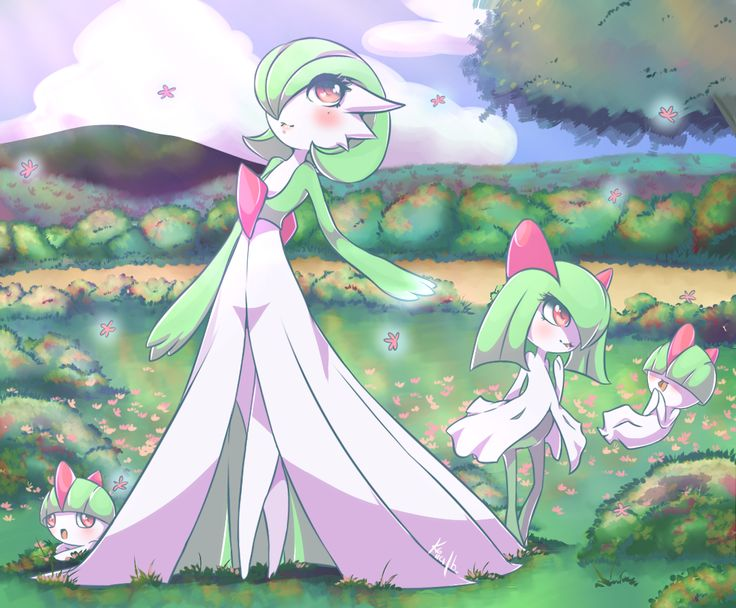gardevoir: (85, 37, 480, 588)
